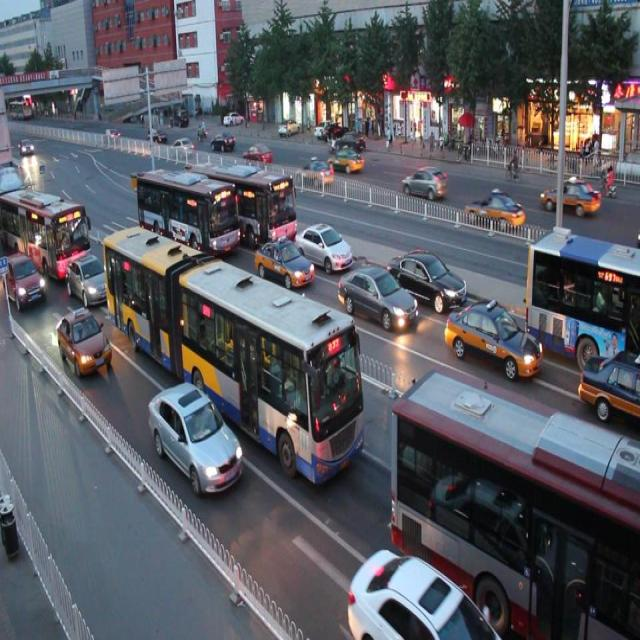car: (346, 546, 501, 640), (148, 380, 244, 496), (446, 294, 544, 382), (337, 258, 416, 331), (390, 243, 468, 309), (576, 345, 640, 418), (57, 309, 114, 380), (253, 230, 314, 289), (294, 214, 352, 273), (1, 248, 48, 308), (66, 254, 115, 308)
van: (102, 218, 366, 482), (390, 370, 640, 640), (524, 225, 640, 360), (136, 160, 240, 262), (191, 153, 298, 248), (1, 182, 90, 272)
